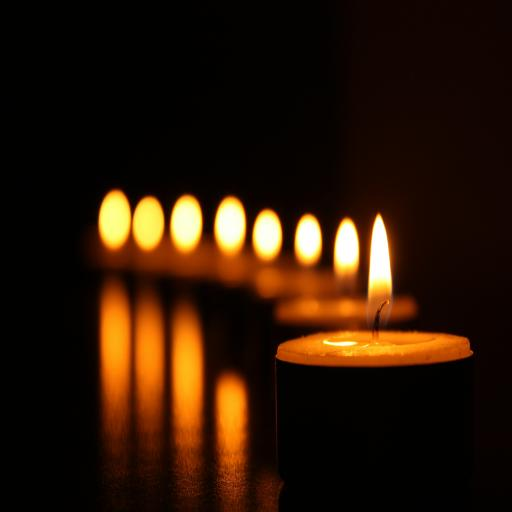candlelight: (260, 198, 512, 476)
